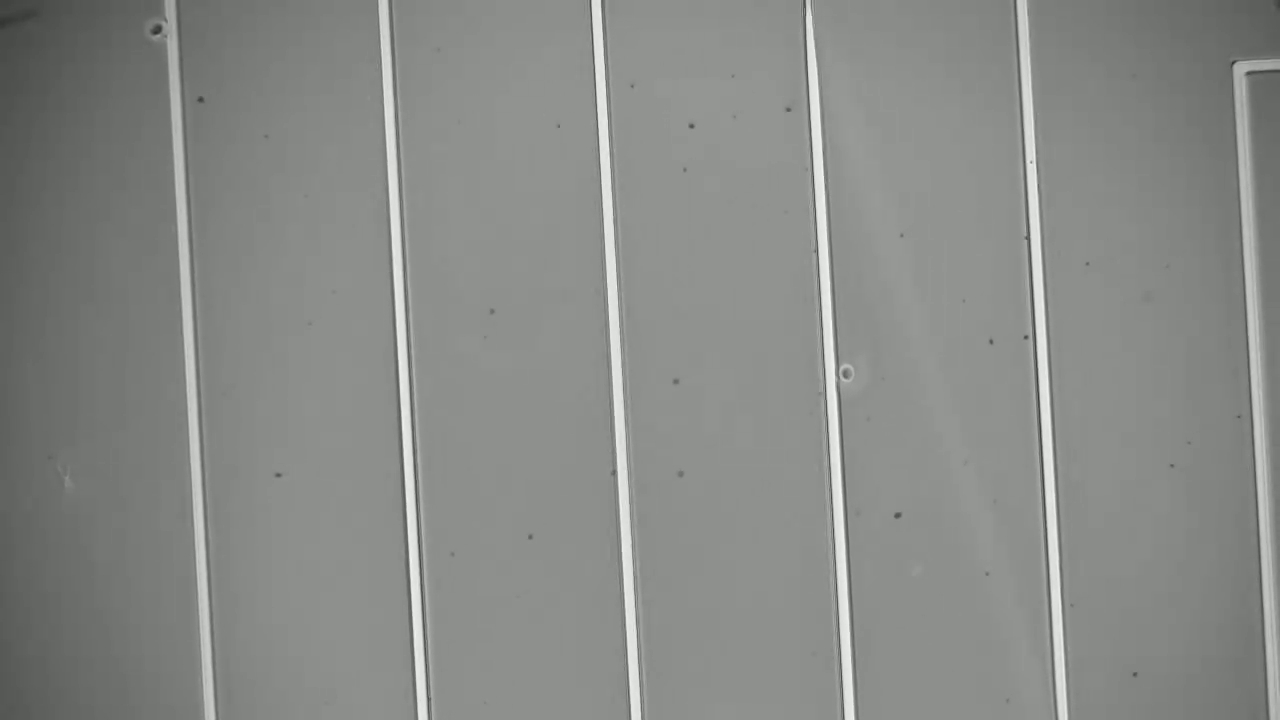stains_enbedded: (137, 9, 188, 50)
